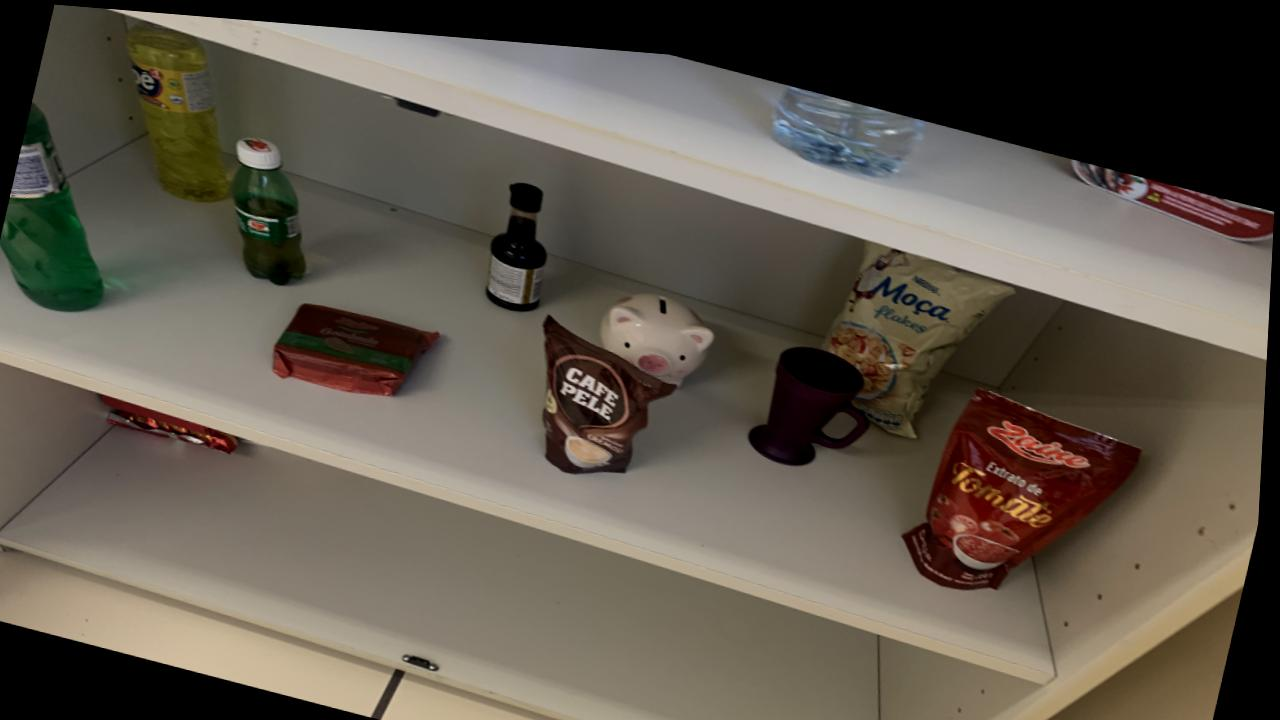Coffee-Pantry_Items: (545, 306, 678, 463)
Detergent-Cleanup_Items: (1, 102, 107, 310), (125, 19, 230, 198)
English_Sauce-Pantry_Items: (488, 173, 549, 302)
Flakes-Snacks: (826, 226, 1017, 422)
Guarana-Drinks: (232, 133, 309, 280)
Guava-Snacks: (275, 298, 441, 389)
Pig_Safe-Miscellaneous: (602, 281, 717, 374)
Tomato_Sauce-Pantry_Items: (908, 371, 1144, 572)
Water_Bottle-Drinks: (1072, 141, 1276, 219), (773, 72, 925, 162)
